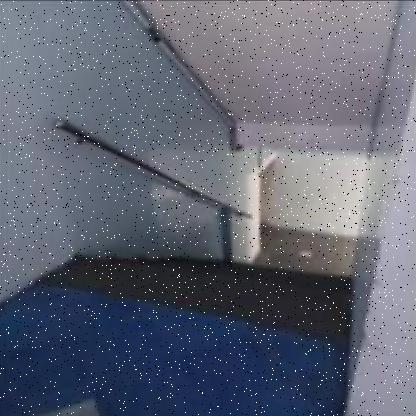stair_down: (126, 195, 348, 315)
